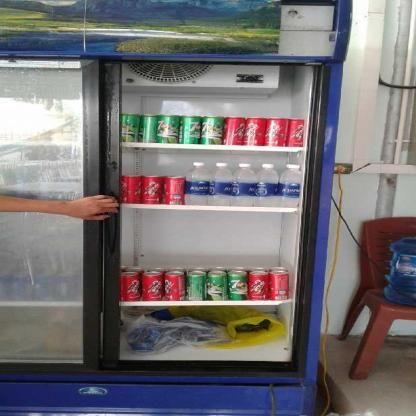7up: (206, 270, 228, 300), (155, 114, 178, 142), (202, 114, 222, 145), (227, 270, 246, 301), (180, 114, 200, 143), (120, 112, 139, 142), (185, 271, 205, 299)
aquafina: (183, 160, 209, 204), (254, 162, 277, 208), (231, 162, 254, 206), (209, 161, 231, 206), (280, 162, 300, 206)
sting-red: (247, 271, 269, 301), (118, 271, 140, 300), (119, 174, 140, 204), (141, 174, 162, 204), (161, 174, 182, 204), (141, 270, 162, 300), (163, 271, 184, 299), (265, 117, 285, 145), (269, 272, 288, 300), (225, 116, 244, 143), (246, 117, 265, 144), (286, 117, 302, 146)
